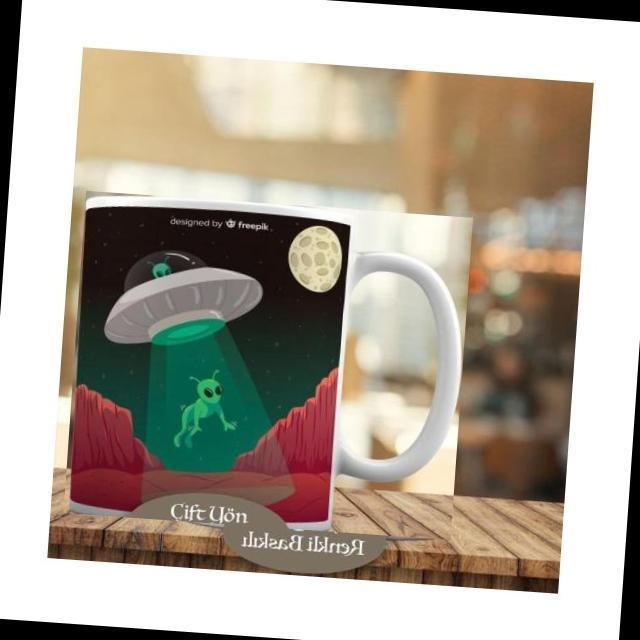taza: (49, 180, 468, 520)
